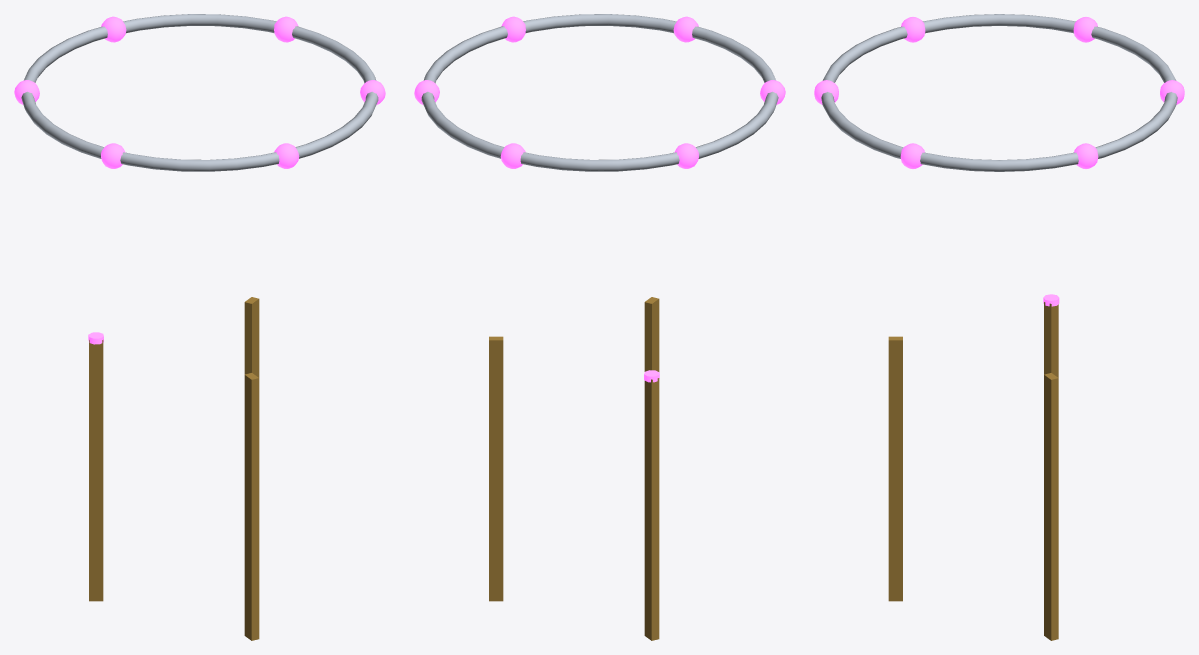
File: tower_arc_damage_s3.glb
The picture shows the model from 3 angles, left to right: view 1: azimuth 30°, elevation 25°; view 2: azimuth 150°, elevation 25°; view 3: azimuth 270°, elevation 25°; orthographic projection.
Visible parts, largest first — view 1: arc_electrode_ring, arc_ground_strap2, arc_ground_strap0, arc_ground_strap1; view 2: arc_electrode_ring, arc_ground_strap0, arc_ground_strap1, arc_ground_strap2; view 3: arc_electrode_ring, arc_ground_strap2, arc_ground_strap1, arc_ground_strap0.
Part boxes in pixels (x1,y1,x2,y2): arc_electrode_ring: (21, 14, 378, 171); arc_ground_strap2: (244, 373, 259, 640); arc_ground_strap0: (89, 340, 103, 601); arc_ground_strap1: (244, 297, 259, 377); arc_electrode_ring: (421, 14, 778, 171); arc_ground_strap0: (644, 378, 659, 640); arc_ground_strap1: (489, 336, 503, 601); arc_ground_strap2: (644, 297, 659, 371); arc_electrode_ring: (821, 14, 1177, 171); arc_ground_strap2: (888, 336, 902, 601); arc_ground_strap1: (1044, 373, 1058, 640); arc_ground_strap0: (1044, 302, 1058, 377).
Bounding box in the file's own units: 1.24 × 1.99 × 1.29.
